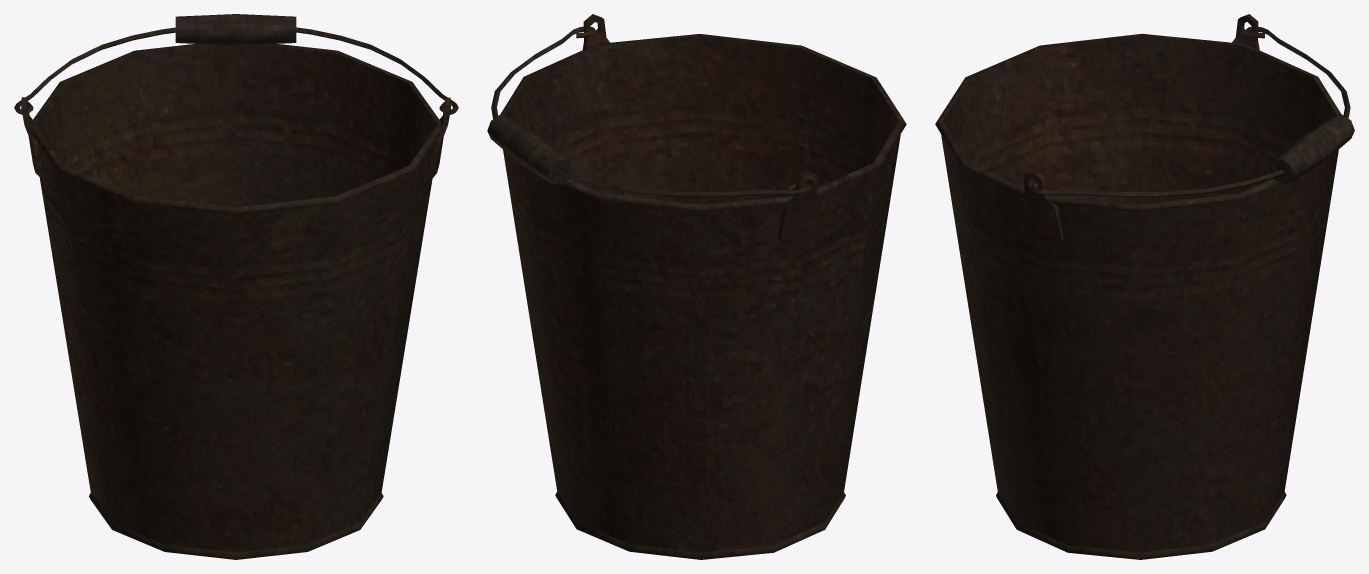
The model's file is bucket_mx_1.glb.
3 views of the same model, side by side, from view 1: azimuth 30°, elevation 25°; view 2: azimuth 150°, elevation 25°; view 3: azimuth 270°, elevation 25° (orthographic).
Parts seen in each view (by area): view 1: bucket_mx_1; view 2: bucket_mx_1; view 3: bucket_mx_1.
Part boxes in pixels (<box>): bucket_mx_1: <box>14,14,458,559</box>; bucket_mx_1: <box>487,14,906,559</box>; bucket_mx_1: <box>935,14,1354,559</box>.
Size of the model in its own units: 0.43 by 0.4654 by 0.4359.
1 material, 1 textured.
